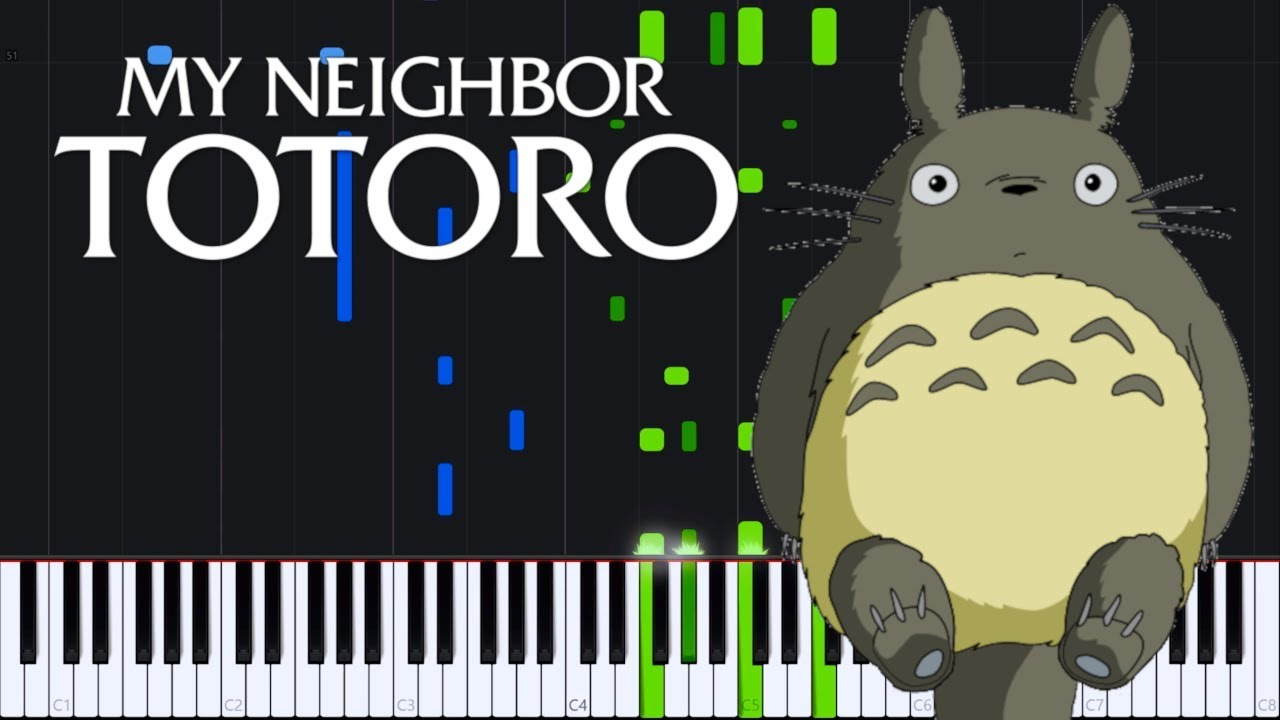Totoro: (750, 9, 1259, 720)
